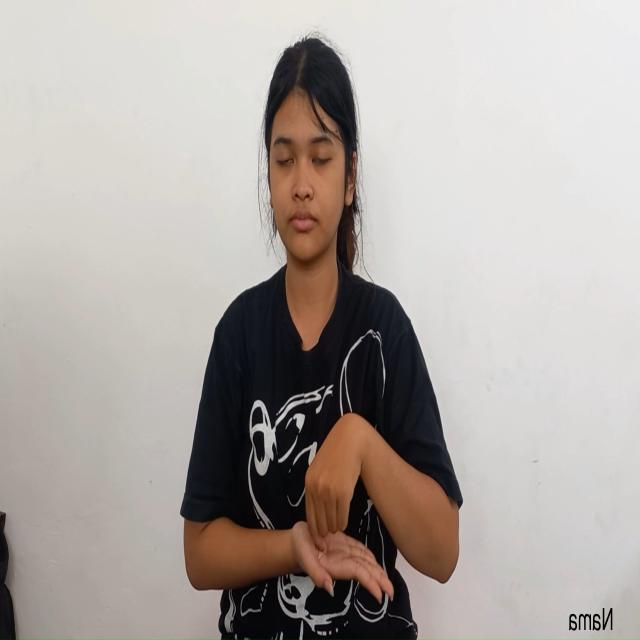Nama -BISINDO-: (291, 412, 395, 606)
